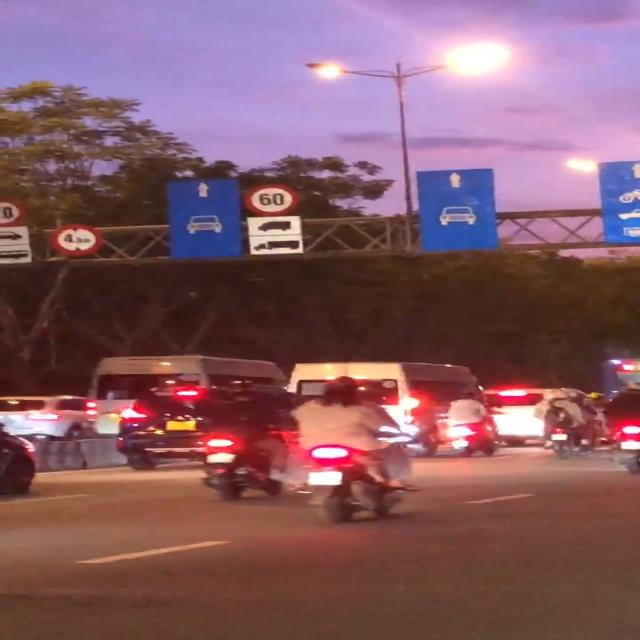Bien bao han che chieu cao: (48, 222, 107, 258)
Bien bao toc do toi da cho phep: (239, 180, 305, 217)
